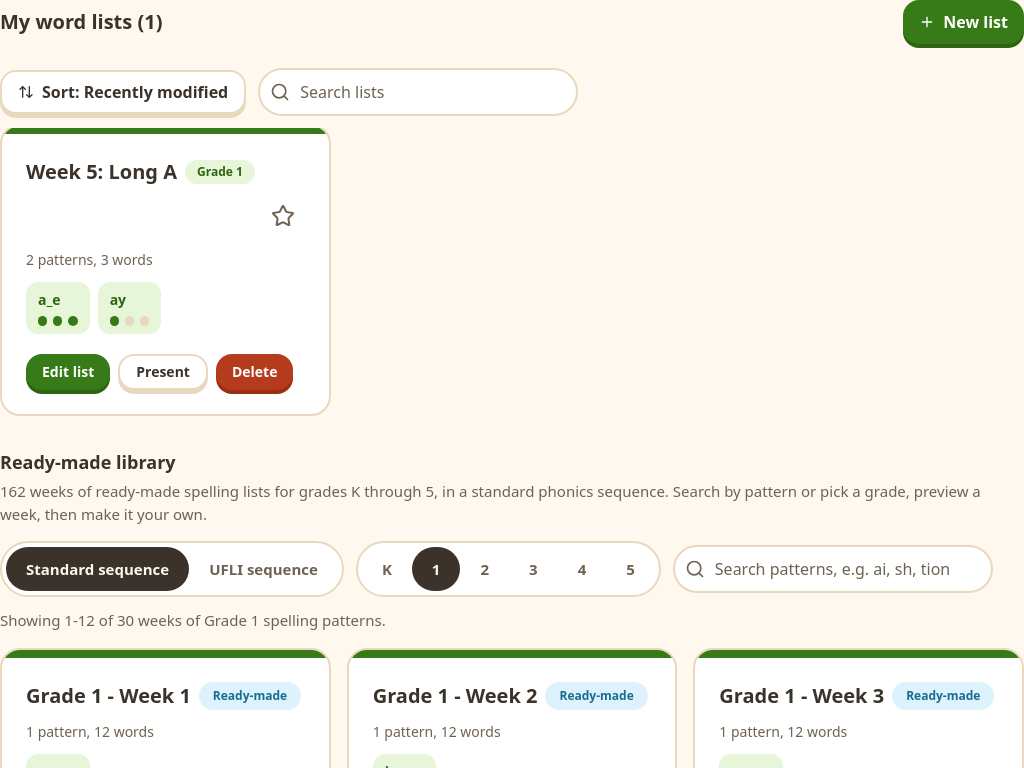
Test: PatternListsManager › uses the plural when deleting a multi-pattern list
The width and height of the screenshot is (1024, 768).
Expected: the heading "My word lists (1)" is shown, [0, 8, 162, 36]
Click the button "Delete" at (255, 372), box [216, 354, 293, 390]
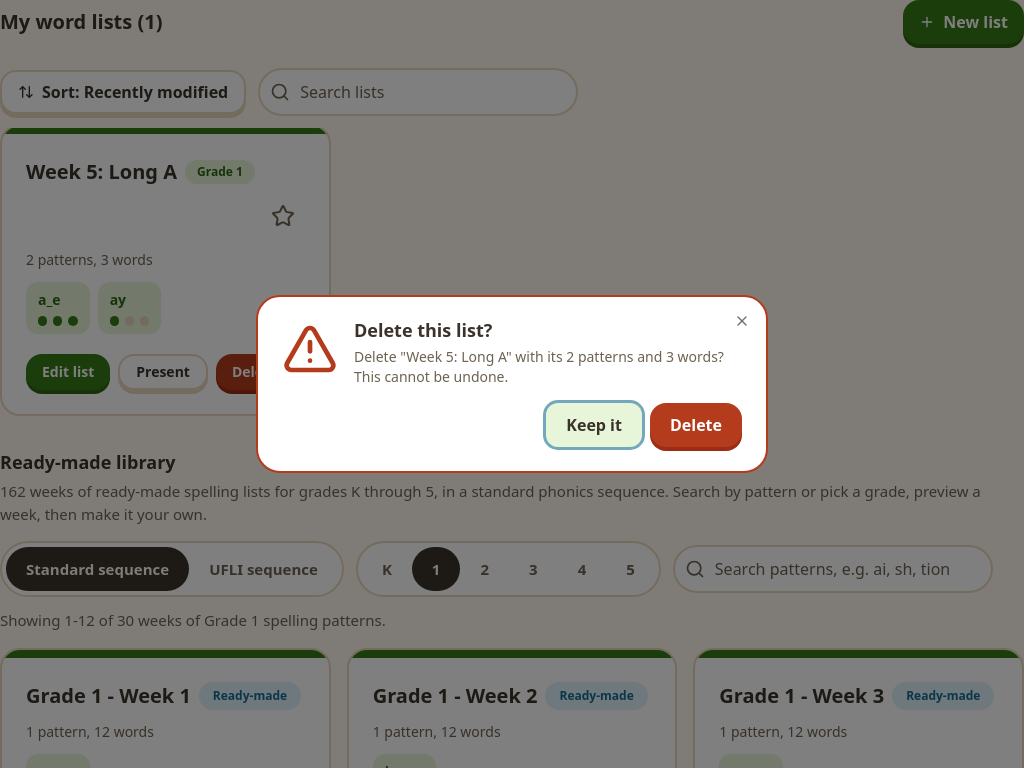
Result: the text "Delete \"Week 5: Long A\" with its 2 patterns and 3 words? This cannot be undone." is shown at [354, 347, 742, 387]
